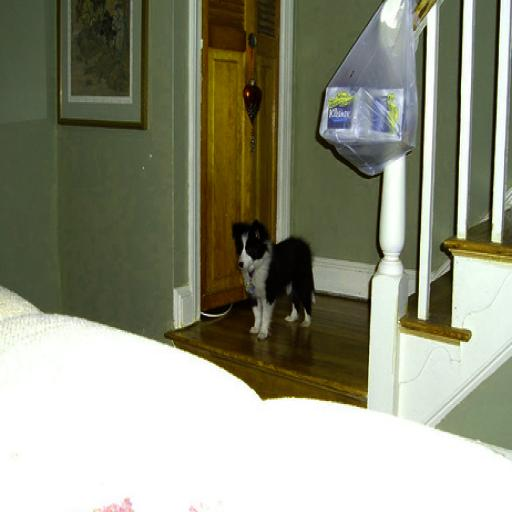dog_face: (229, 220, 272, 282)
